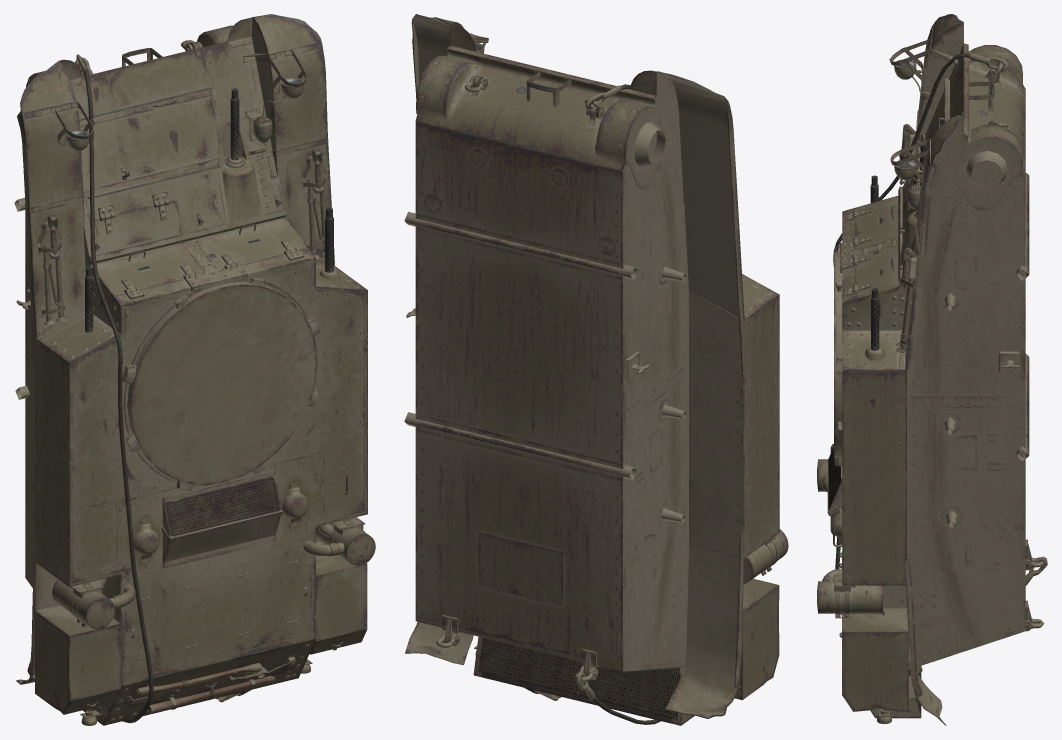
The model's file is Hull.glb.
3 views of the same model, side by side, from view 1: azimuth 30°, elevation 25°; view 2: azimuth 150°, elevation 25°; view 3: azimuth 270°, elevation 25° (orthographic). The views are drawn at different scales.
Parts seen in each view (by area): view 1: set_0_group_0; view 2: set_0_group_0; view 3: set_0_group_0.
Boxes of the visible parts, x1,y1,x2,y2 form: set_0_group_0: (14, 14, 375, 725); set_0_group_0: (404, 14, 788, 725); set_0_group_0: (817, 14, 1047, 725).
Bounding box in the file's own units: 2.26 × 4.62 × 1.56.
Materials: 1 (1 with a texture image).
